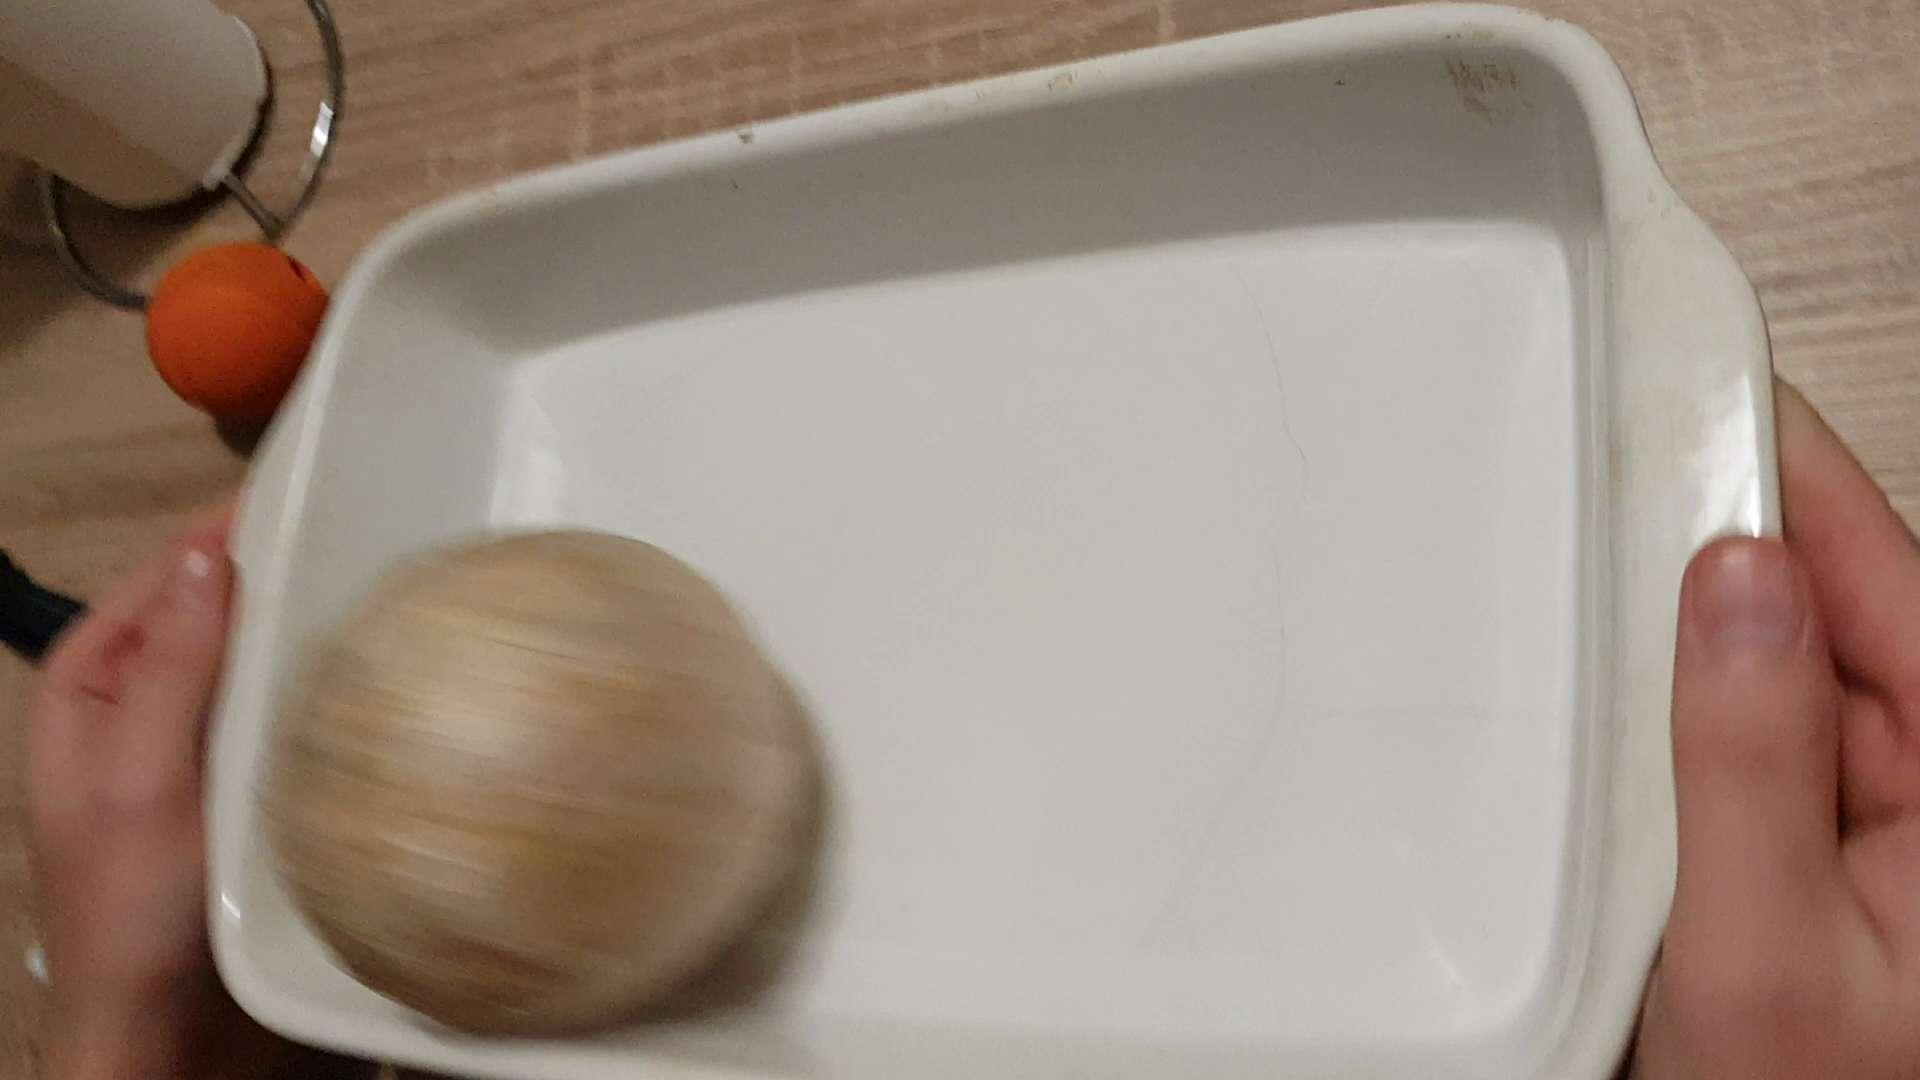Sphere: (249, 525, 822, 1051)
